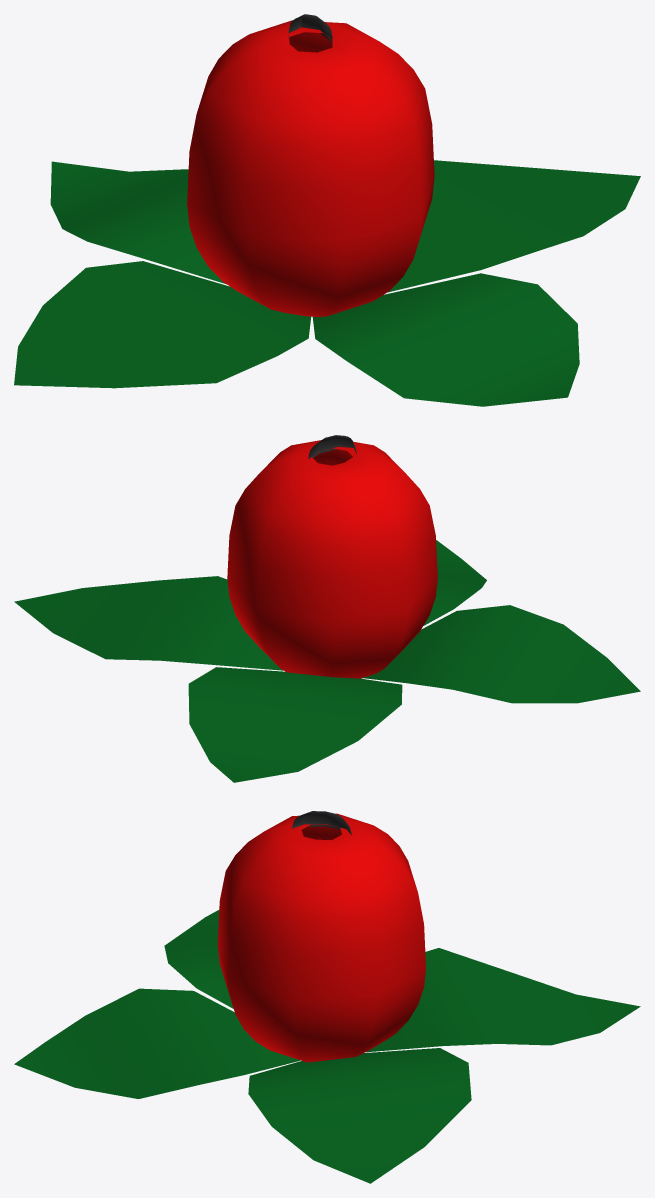
File: berry-red.fbx
3 views of the same model, one above another, from view 1: azimuth 30°, elevation 25°; view 2: azimuth 150°, elevation 25°; view 3: azimuth 270°, elevation 25° (orthographic). The views are drawn at different scales.
Visible parts, largest first — view 1: Berries; view 2: Berries; view 3: Berries.
Boxes of the visible parts, x1,y1,x2,y2 form: Berries: [14, 14, 640, 406]; Berries: [14, 435, 640, 782]; Berries: [14, 811, 640, 1183].
Size of the model in its own units: 243 by 96.06 by 225.
